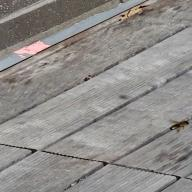Bee: (157, 116, 192, 134)
